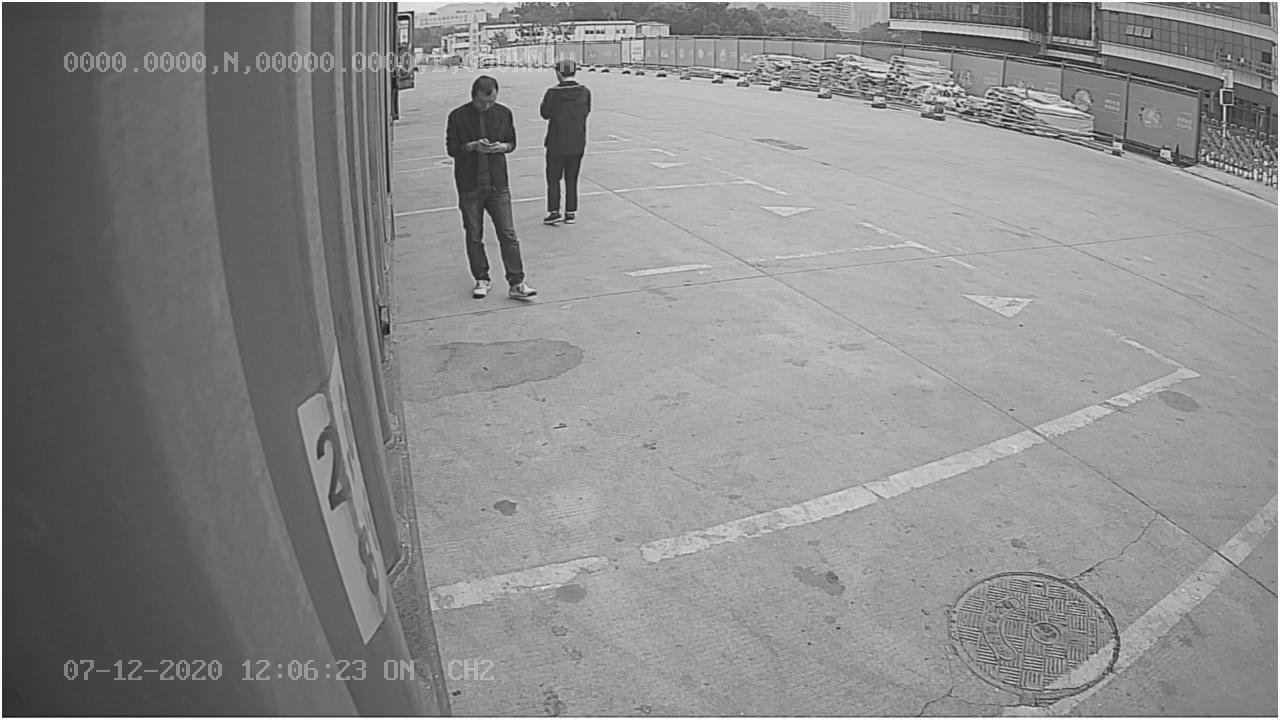person: (439, 75, 536, 306)
